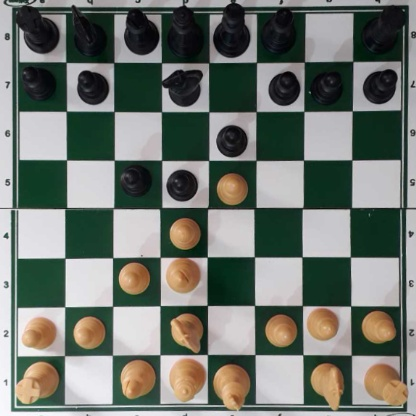black-bishop: (260, 4, 297, 55), (123, 7, 159, 54)
black-king: (212, 1, 250, 61)
black-knight: (71, 3, 106, 56), (164, 67, 201, 106)
black-pawn: (362, 67, 397, 104), (215, 121, 249, 157), (22, 65, 56, 101), (75, 67, 107, 104), (311, 69, 343, 104), (119, 163, 152, 196), (268, 71, 300, 105), (166, 168, 198, 200)
black-queen: (167, 5, 205, 56)
black-rook: (14, 4, 59, 51), (360, 6, 403, 53)
white-bishop: (119, 358, 154, 400), (165, 257, 200, 293)
white-king: (213, 360, 249, 410)
white-knight: (311, 360, 345, 411), (170, 311, 204, 353)
white-pawn: (19, 315, 58, 349), (361, 310, 397, 344), (72, 315, 106, 349), (215, 171, 249, 205), (306, 307, 339, 342), (263, 313, 297, 346), (117, 261, 150, 294), (168, 217, 200, 251)
white-queen: (168, 357, 205, 403)
white-rook: (363, 362, 409, 406), (14, 360, 59, 403)
